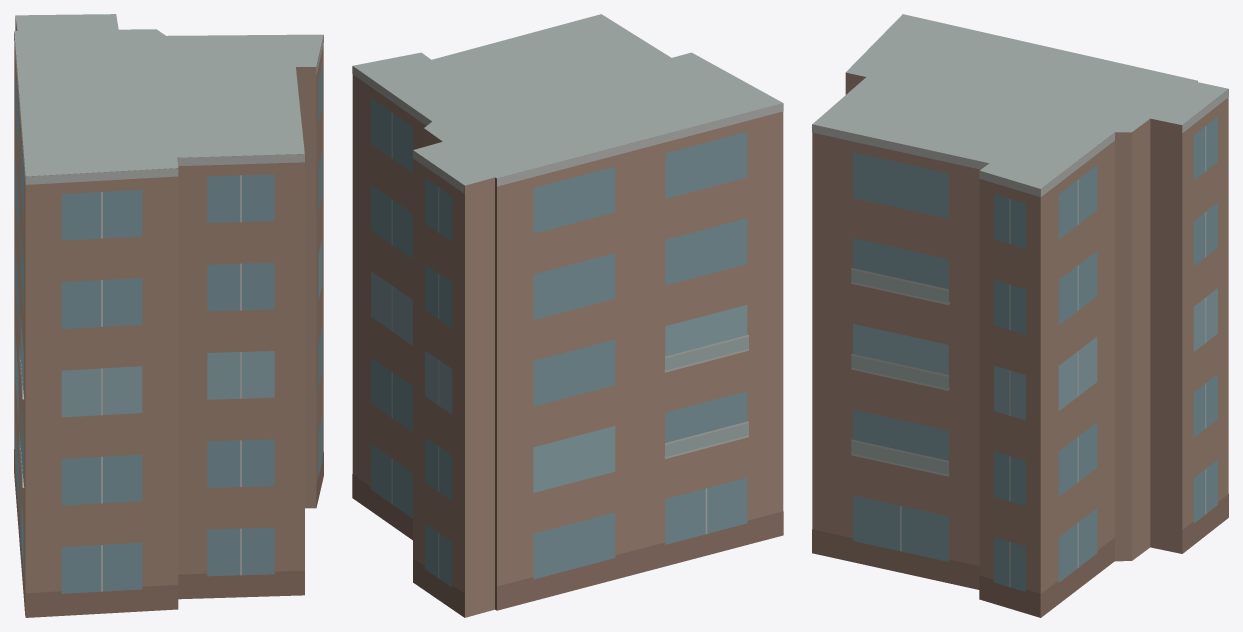
Rendered from survey-upis-32716472.glb.
3 views of the same model, side by side, from view 1: azimuth 30°, elevation 25°; view 2: azimuth 150°, elevation 25°; view 3: azimuth 270°, elevation 25° (orthographic). The views are drawn at different scales.
Parts seen in each view (by area): view 1: survey-upis-32716472.tmp; view 2: survey-upis-32716472.tmp; view 3: survey-upis-32716472.tmp.
Part boxes in pixels (box(x1,y1,x2,y2)): survey-upis-32716472.tmp: box(14, 14, 323, 617); survey-upis-32716472.tmp: box(352, 14, 783, 617); survey-upis-32716472.tmp: box(812, 14, 1228, 617).
Size of the model in its own units: 11.16 by 12.74 by 11.23.
